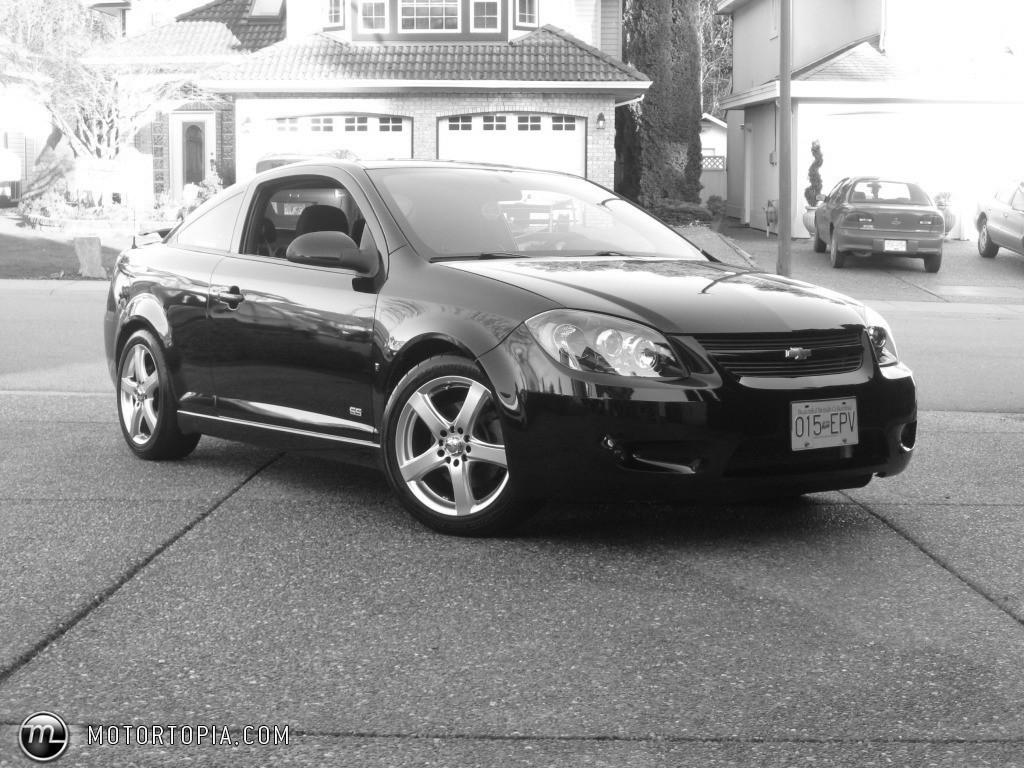car: (103, 153, 932, 552)
